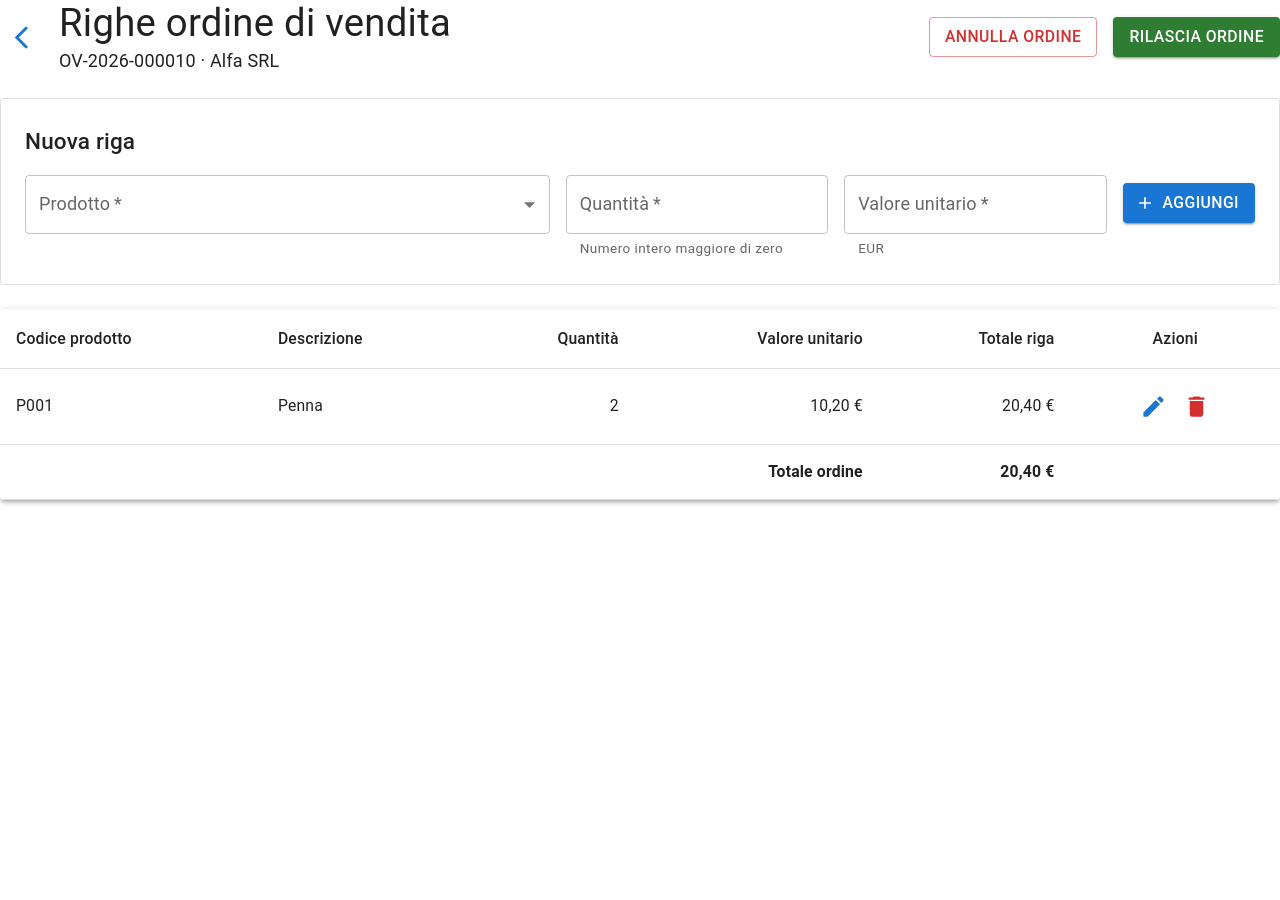
RigheOrdineVendita › annulla l ordine dopo la conferma
The width and height of the screenshot is (1280, 900).
Expected: the text "P001" is shown, [0, 368, 262, 444]
Click the button "Annulla ordine": (1013, 37) [929, 17, 1098, 57]
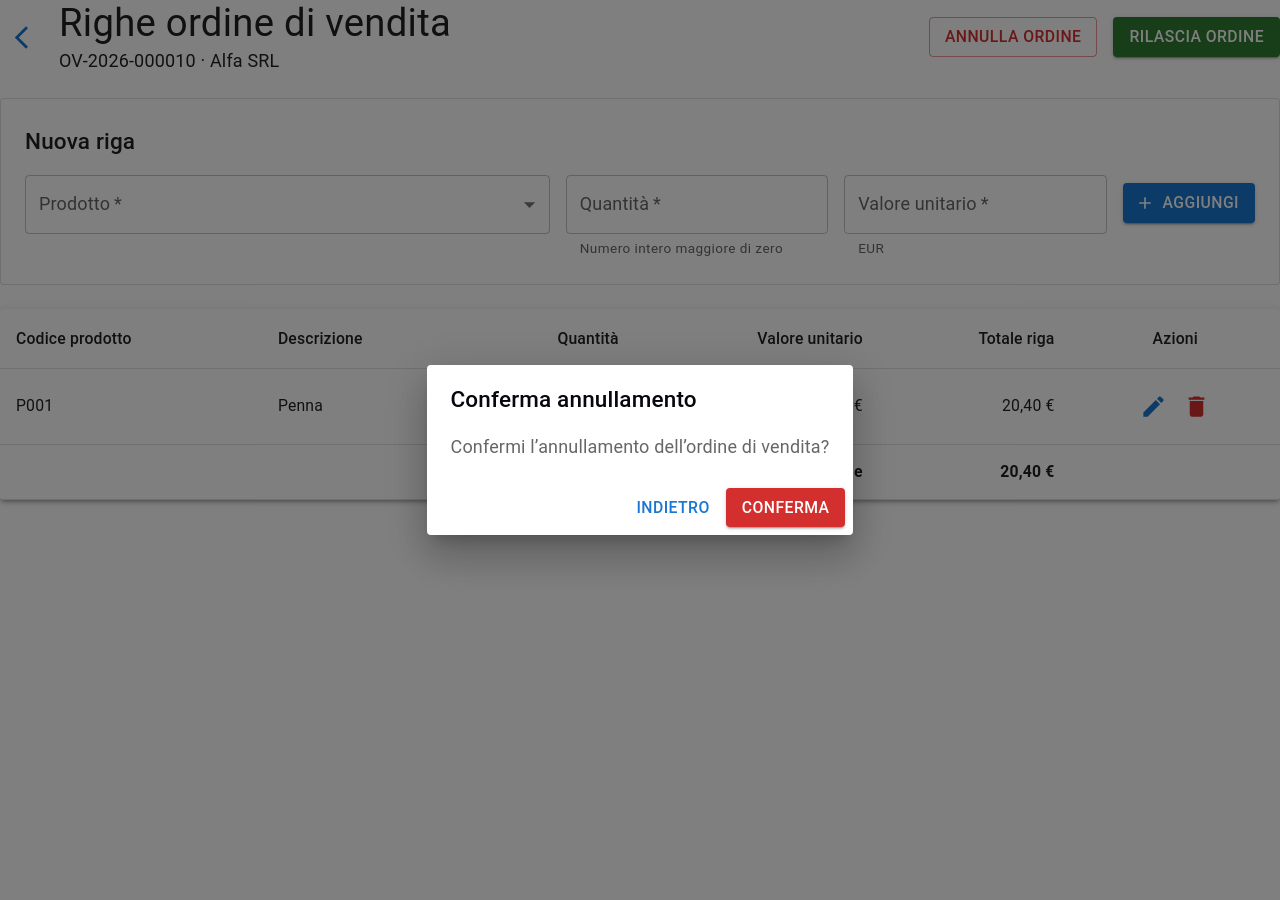
Click the button "Conferma": (786, 508) [726, 488, 846, 527]
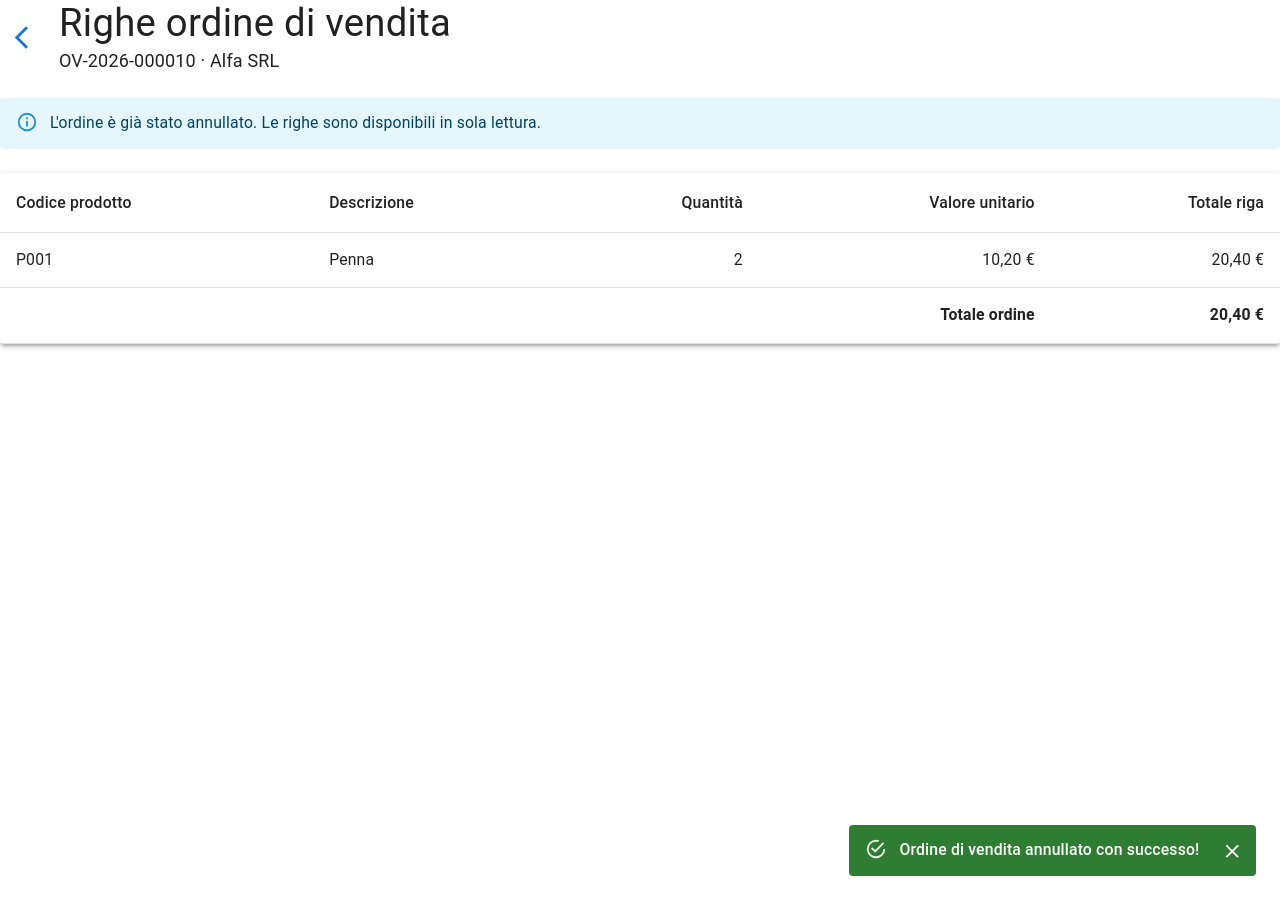
Expected: the text "Ordine di vendita annullato con successo!" is shown, [899, 840, 1200, 860]
